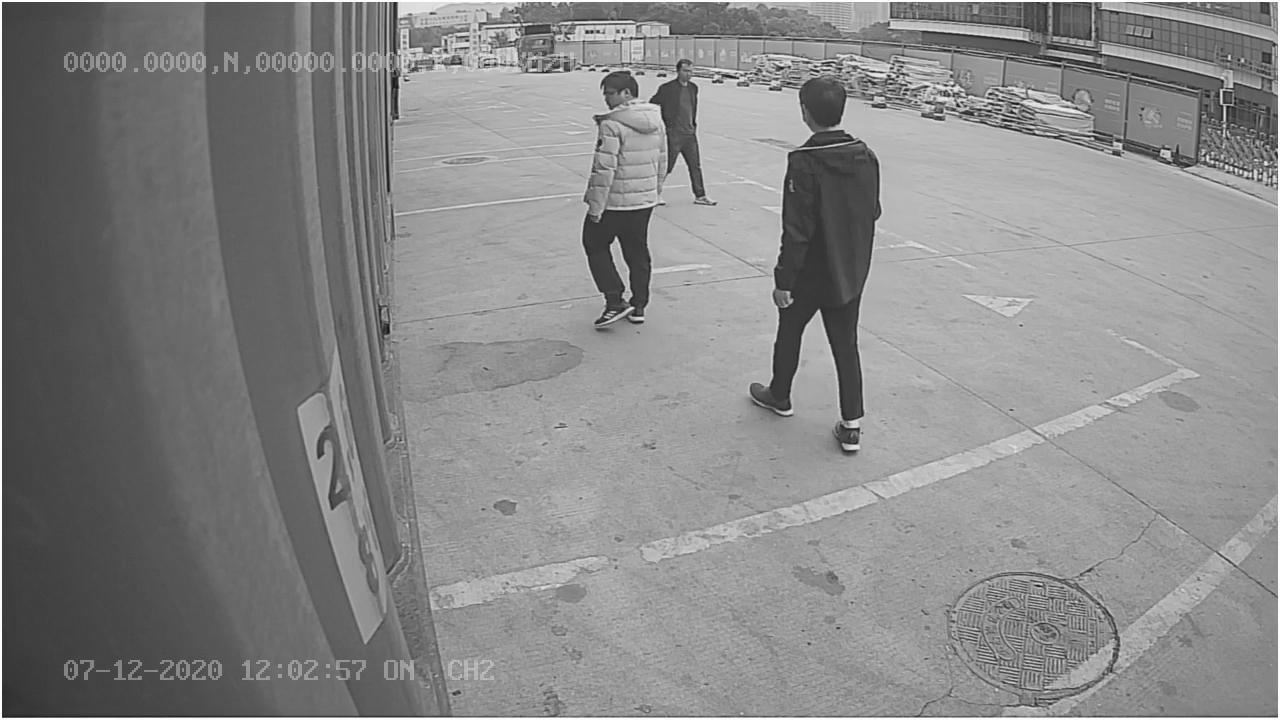person: (735, 73, 887, 455)
